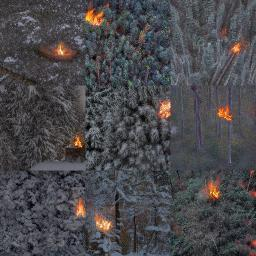Small fire: (82, 2, 110, 28), (52, 36, 74, 62), (158, 98, 179, 121), (215, 102, 233, 125), (72, 196, 87, 220), (205, 175, 221, 197), (97, 216, 113, 237), (227, 38, 244, 56), (71, 135, 83, 149)
